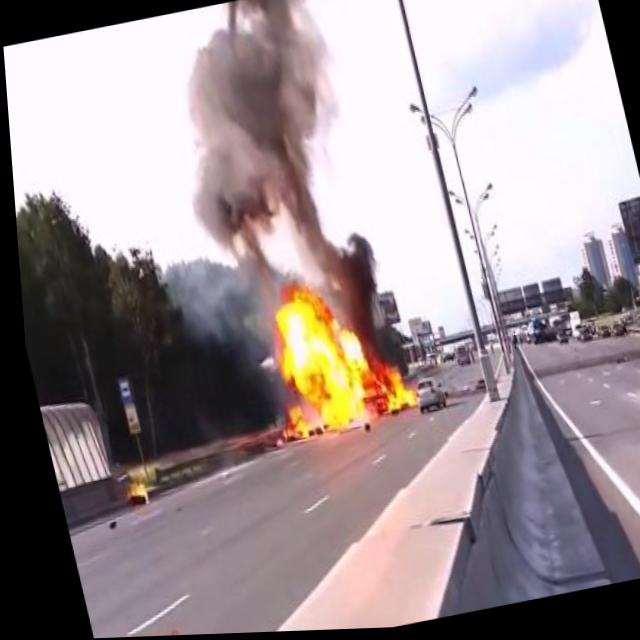fire: (243, 270, 422, 449)
